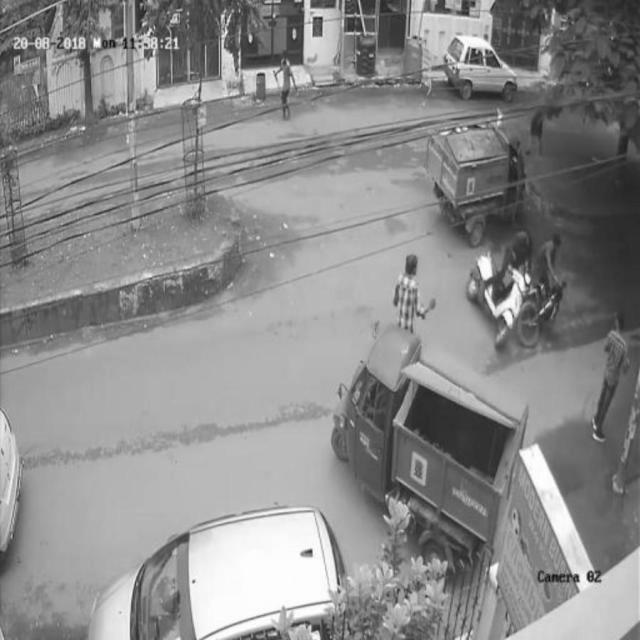accident: (465, 234, 573, 352)
person: (593, 304, 629, 448), (279, 47, 299, 121)
vehicle: (332, 316, 530, 570), (84, 503, 352, 637), (425, 118, 533, 246), (442, 34, 519, 105)
